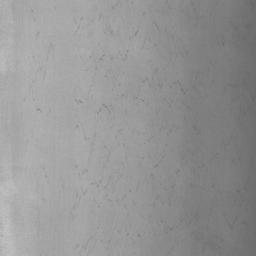Silk spot: (97, 104, 113, 115)
